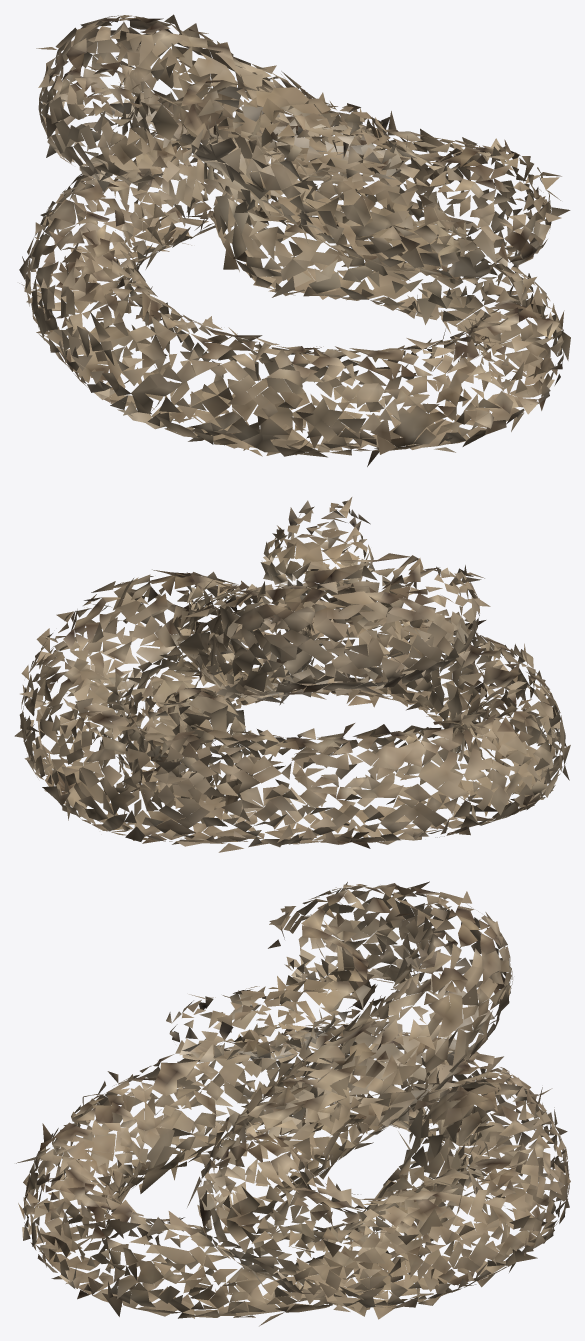
Rendered from snake.glb.
3 views of the same model, one above another, from view 1: azimuth 30°, elevation 25°; view 2: azimuth 150°, elevation 25°; view 3: azimuth 270°, elevation 25° (orthographic). The views are drawn at different scales.
Visible parts, largest first — view 1: LO.001; view 2: LO.001; view 3: LO.001.
Boxes of the visible parts, <box> form: LO.001: <box>19,14,570,466</box>; LO.001: <box>14,497,570,852</box>; LO.001: <box>16,881,570,1326</box>.
Size of the model in its own units: 1.95 by 1.16 by 1.96.
1 material, 1 textured.
